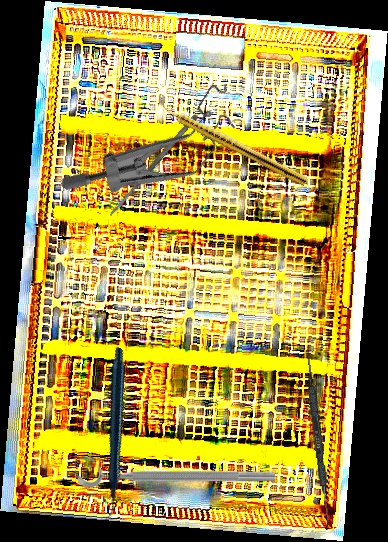Fixation Ring: (78, 455, 275, 487)
Handpiece: (26, 345, 198, 522), (159, 101, 310, 187)
Spatula Surgical: (106, 112, 200, 219), (300, 350, 336, 530)
Speculum: (56, 38, 256, 251)
